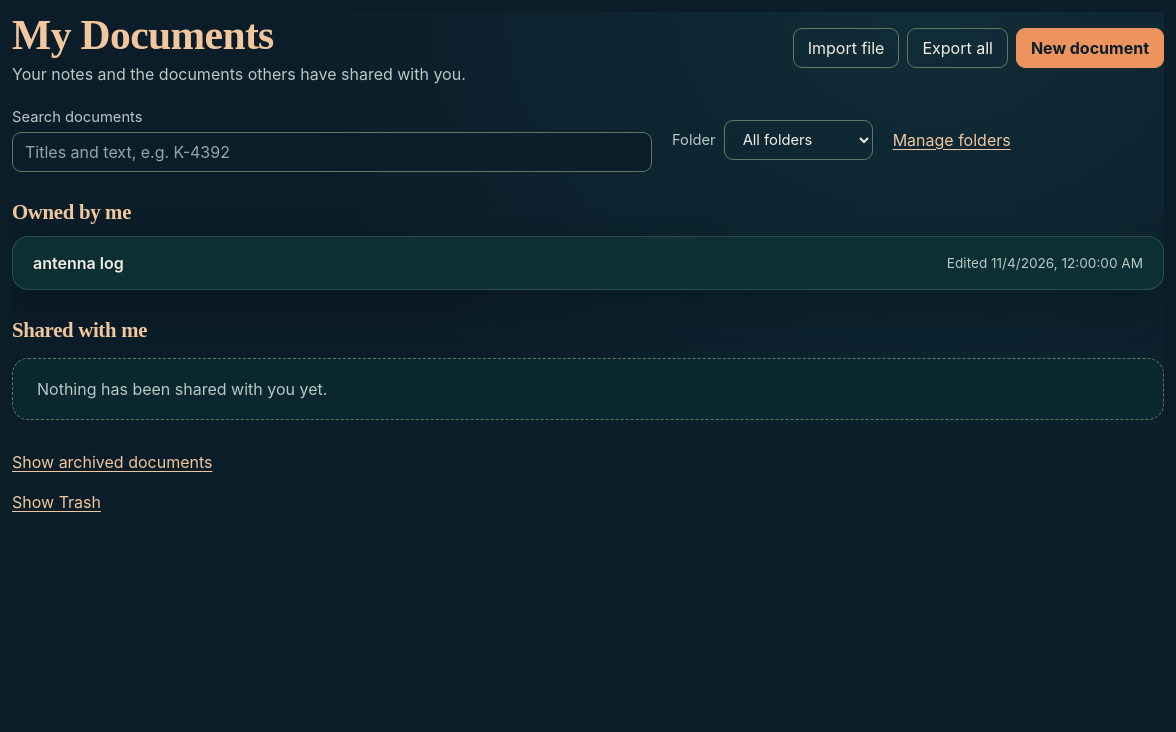
Scenario: DocumentList › loads archived documents on request and restores them
Expected: the link "antenna log" is shown, [33,253,124,273]
Click the button "Show archived documents" at coordinates (112, 462), box [12,448,212,476]
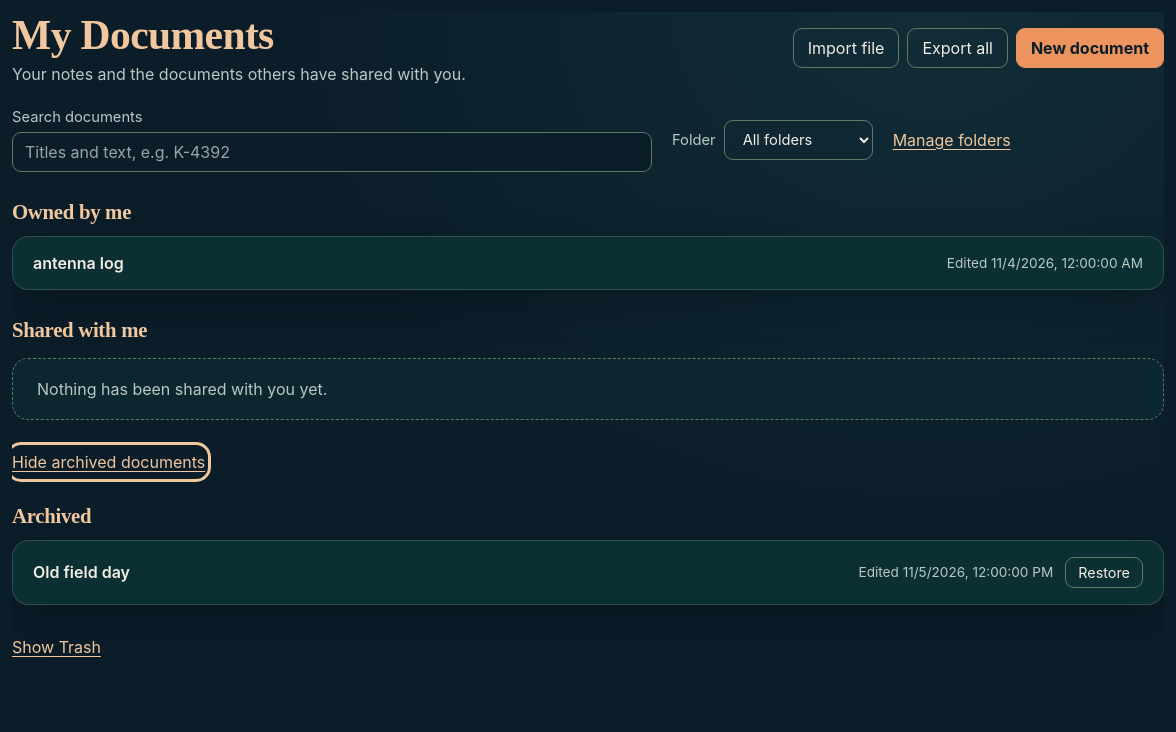
Result: the link "Old field day" is shown at [33,562,130,582]
Click the button with aria-label "Restore Old field day" at coordinates (1104, 572), box [1065,557,1143,588]
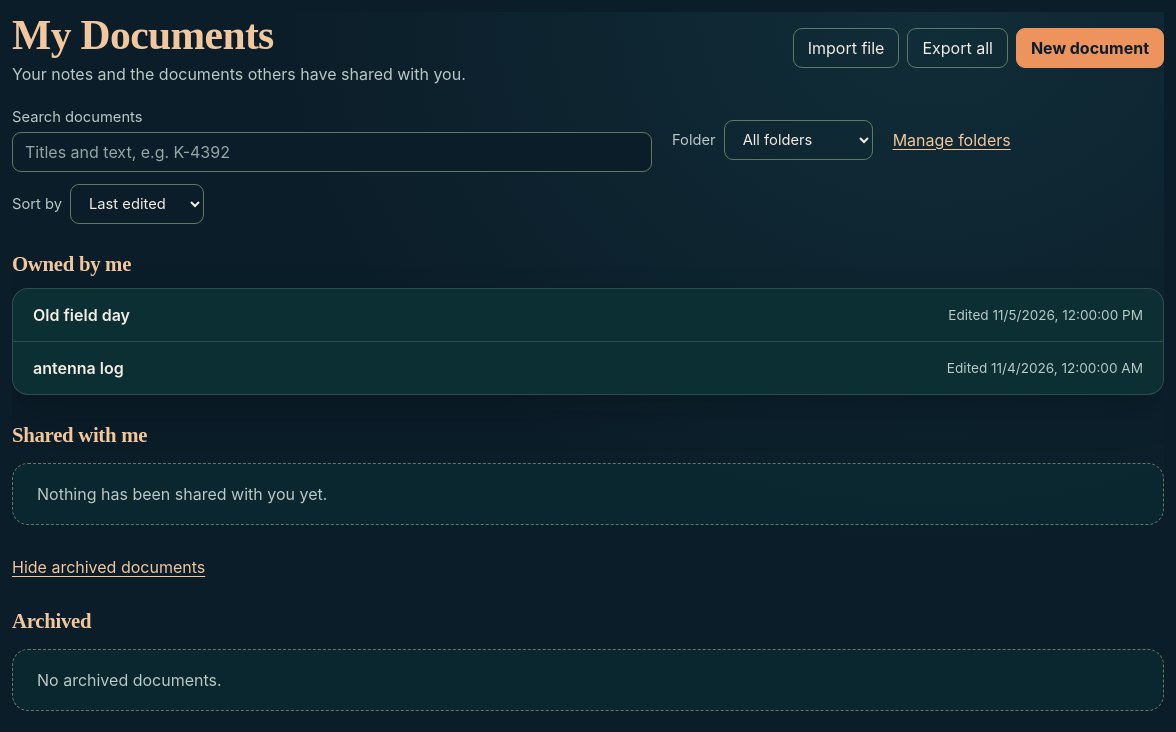
Result: the link "Old field day" is shown at [33,305,130,325]
Result: the text "No archived documents." is shown at [12,649,1164,711]
